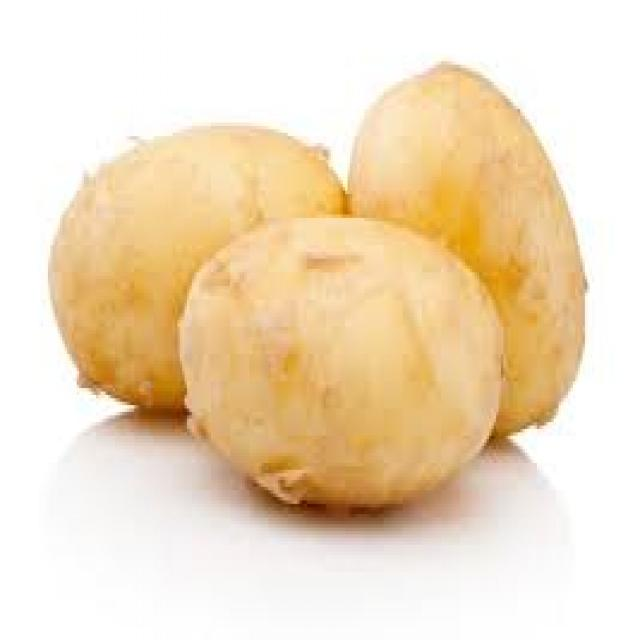Potato: (180, 218, 503, 506)
